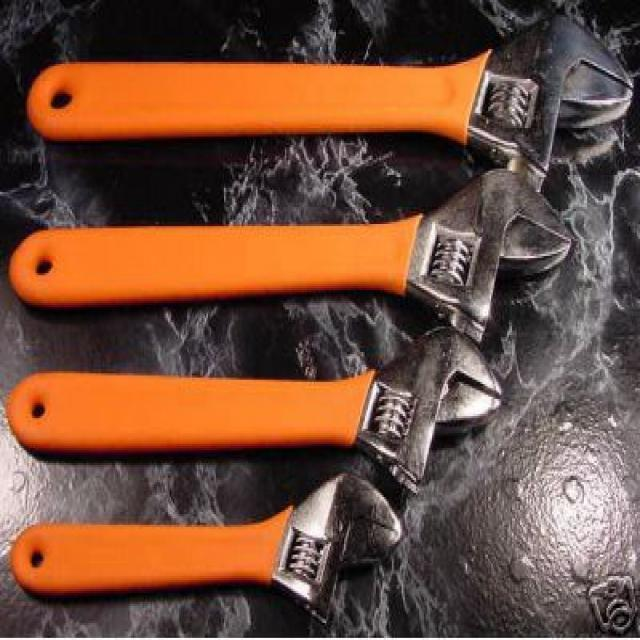wrench: (23, 5, 638, 176), (6, 166, 578, 331), (4, 323, 508, 494), (6, 464, 410, 630)
